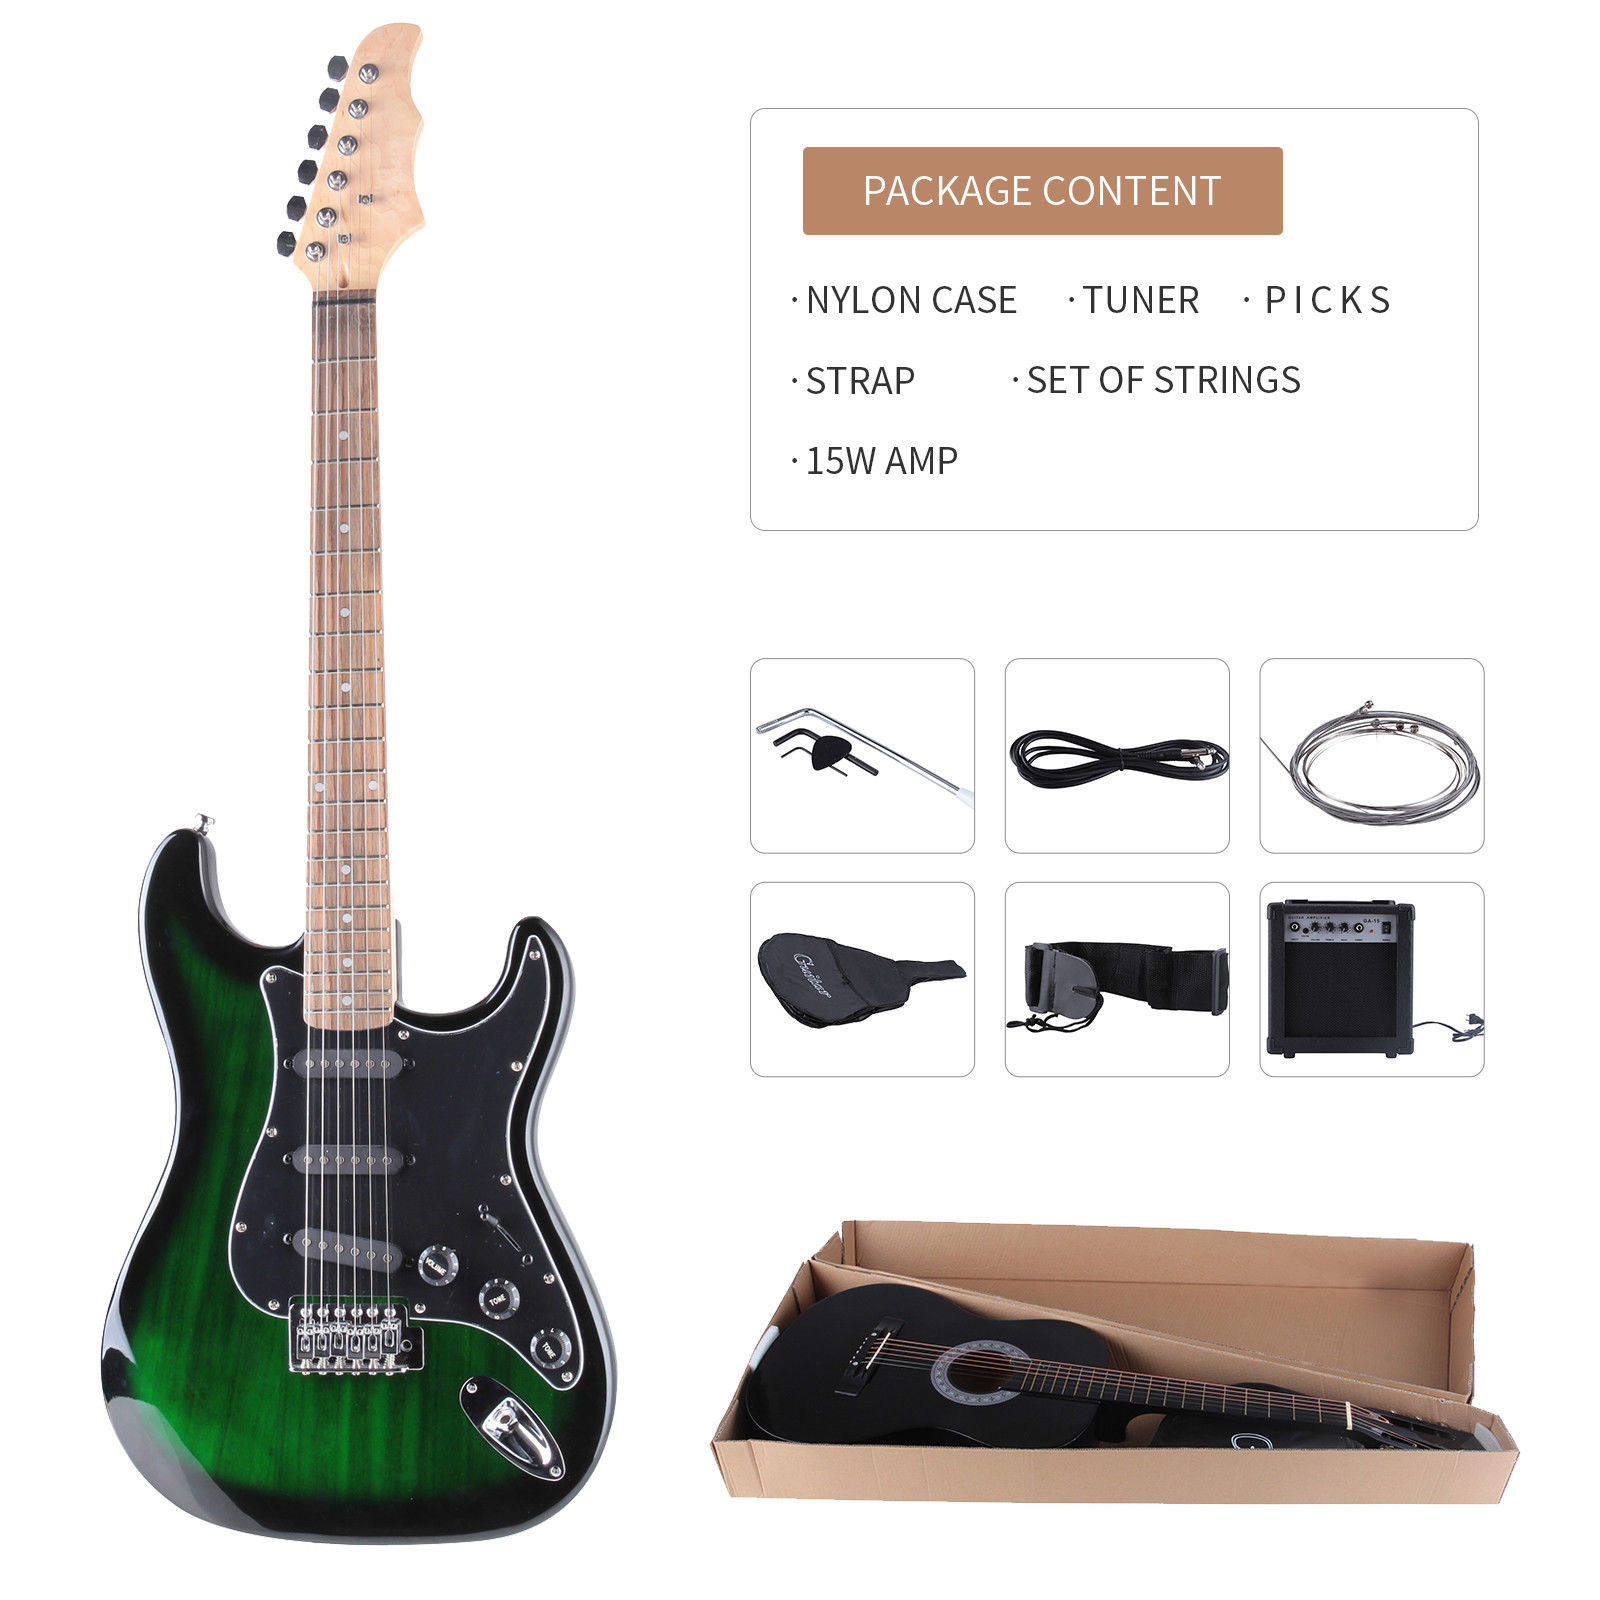ElectricGuitar: (110, 66, 530, 1563)
